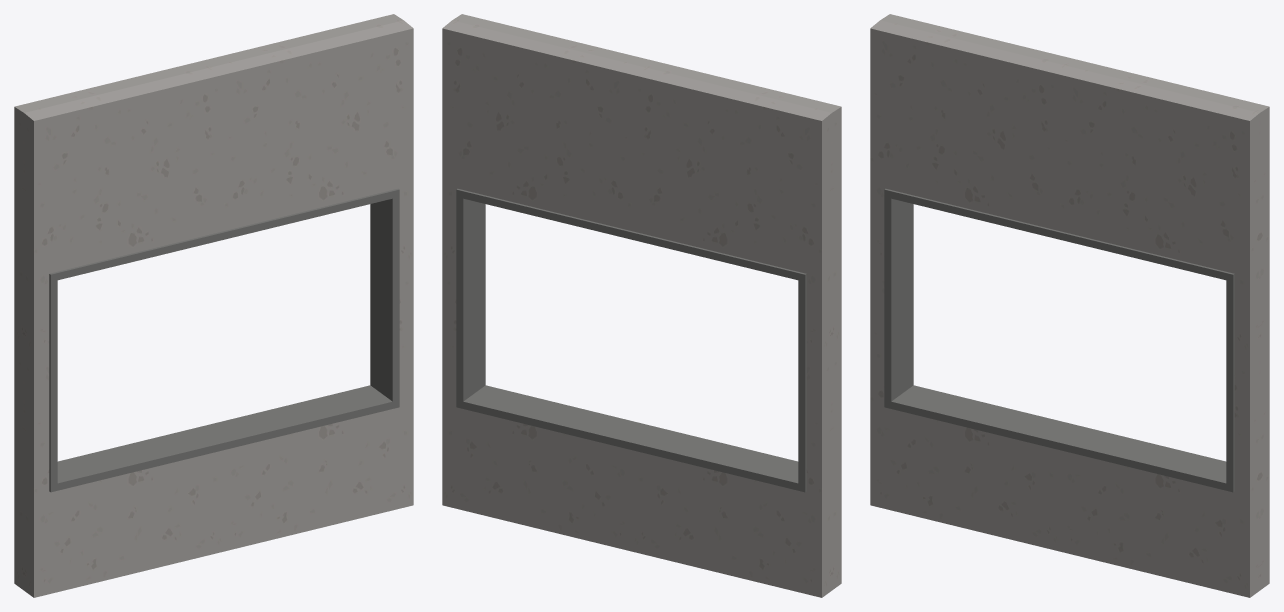
Rendered from SM_Bld_Base_Wall_Window_Double_01.obj.
3 views of the same model, side by side, from view 1: azimuth 30°, elevation 25°; view 2: azimuth 150°, elevation 25°; view 3: azimuth 330°, elevation 25° (orthographic).
Parts seen in each view (by area): view 1: SM_Bld_Base_Wall_Window_Double_01_2, SM_Bld_Base_Wall_Window_Double_01_0, SM_Bld_Base_Wall_Window_Double_01_1; view 2: SM_Bld_Base_Wall_Window_Double_01_1, SM_Bld_Base_Wall_Window_Double_01_0, SM_Bld_Base_Wall_Window_Double_01_2; view 3: SM_Bld_Base_Wall_Window_Double_01_2, SM_Bld_Base_Wall_Window_Double_01_0, SM_Bld_Base_Wall_Window_Double_01_1.
Boxes of the visible parts, left/top/right/bottom form: SM_Bld_Base_Wall_Window_Double_01_2: left=24, top=20, right=413, bottom=597; SM_Bld_Base_Wall_Window_Double_01_0: left=49, top=188, right=399, bottom=492; SM_Bld_Base_Wall_Window_Double_01_1: left=14, top=14, right=403, bottom=590; SM_Bld_Base_Wall_Window_Double_01_1: left=442, top=20, right=831, bottom=597; SM_Bld_Base_Wall_Window_Double_01_0: left=456, top=188, right=806, bottom=492; SM_Bld_Base_Wall_Window_Double_01_2: left=452, top=14, right=841, bottom=590; SM_Bld_Base_Wall_Window_Double_01_2: left=870, top=20, right=1259, bottom=597; SM_Bld_Base_Wall_Window_Double_01_0: left=884, top=188, right=1234, bottom=492; SM_Bld_Base_Wall_Window_Double_01_1: left=880, top=14, right=1269, bottom=590.
Size of the model in its own units: 2.5 by 3.01 by 0.2556.
3 materials, 3 textured.
